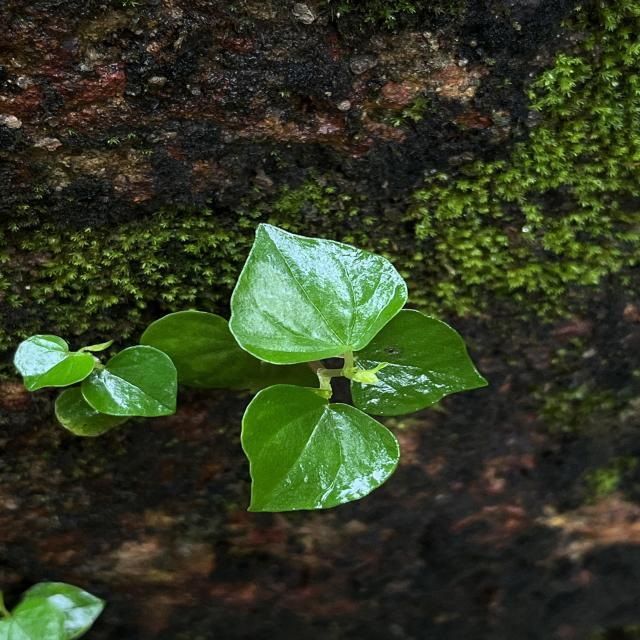Peperomia pellucida: (228, 222, 410, 368), (239, 382, 402, 514)
